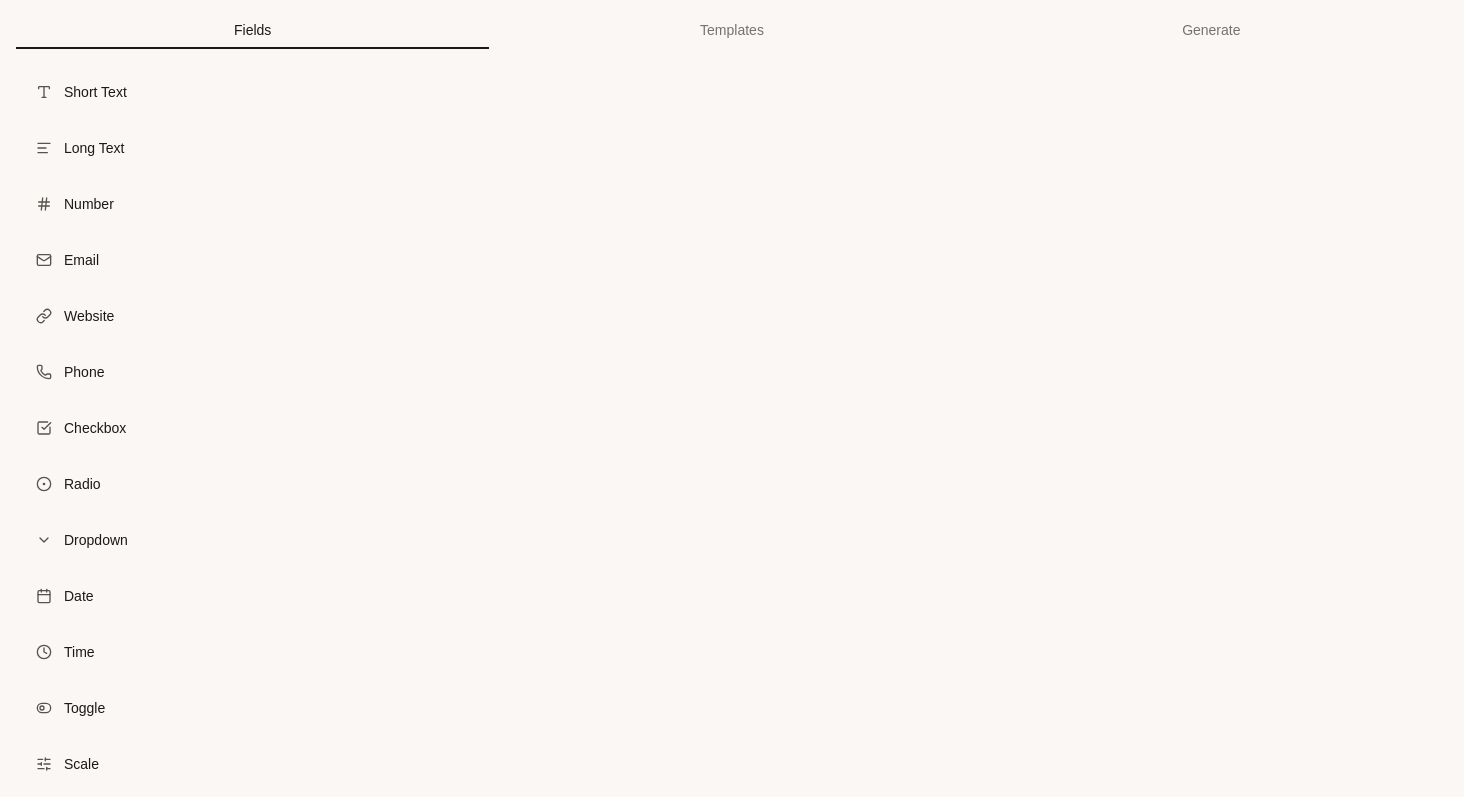
Scenario: TabsLine › switches tabs correctly
Click the tab "Templates". click: [732, 30]
box: [494,16,970,44]
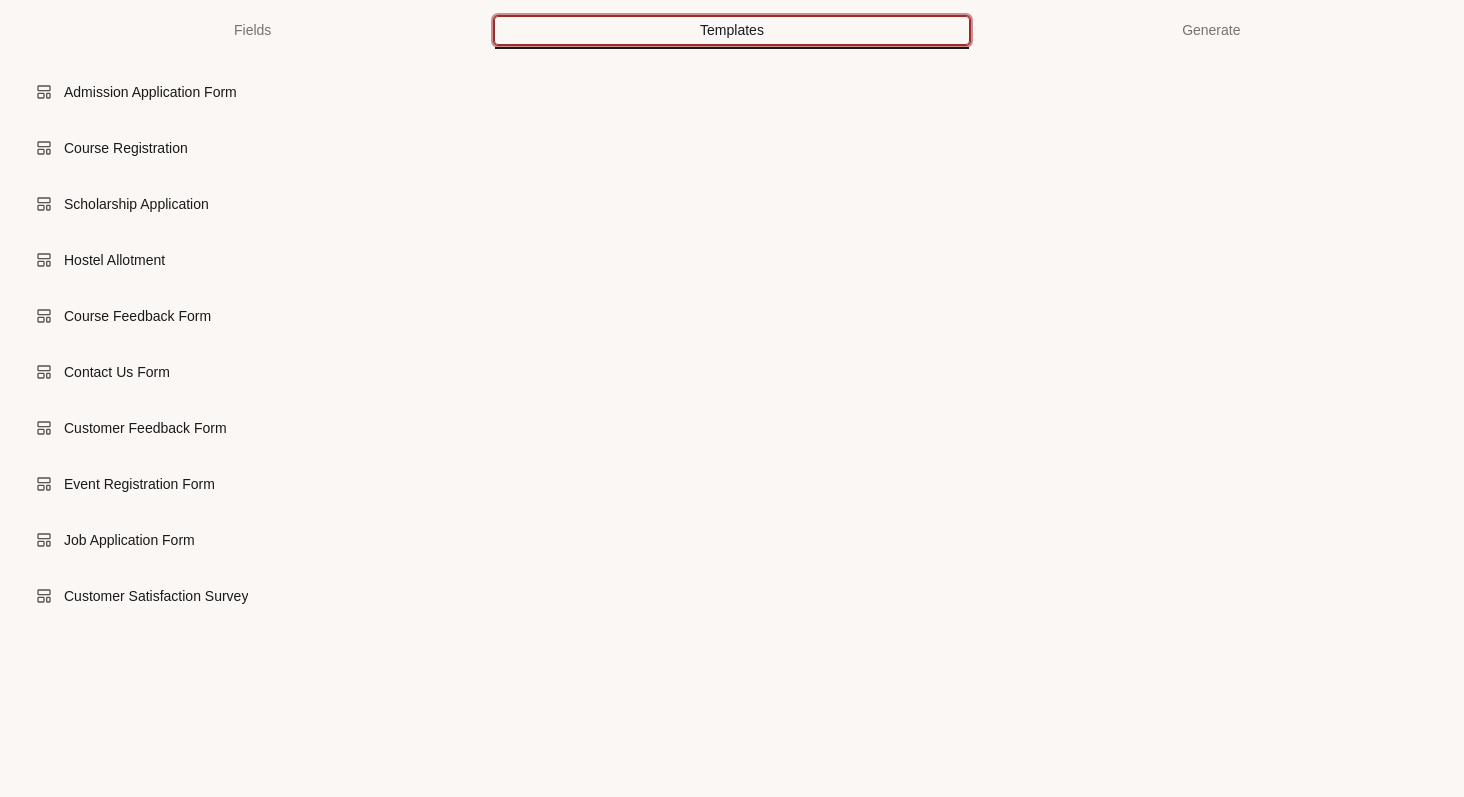
Now the text "Contact Us Form" is shown, box [64,362,170,382]
Now the button "Short Text" is gone
